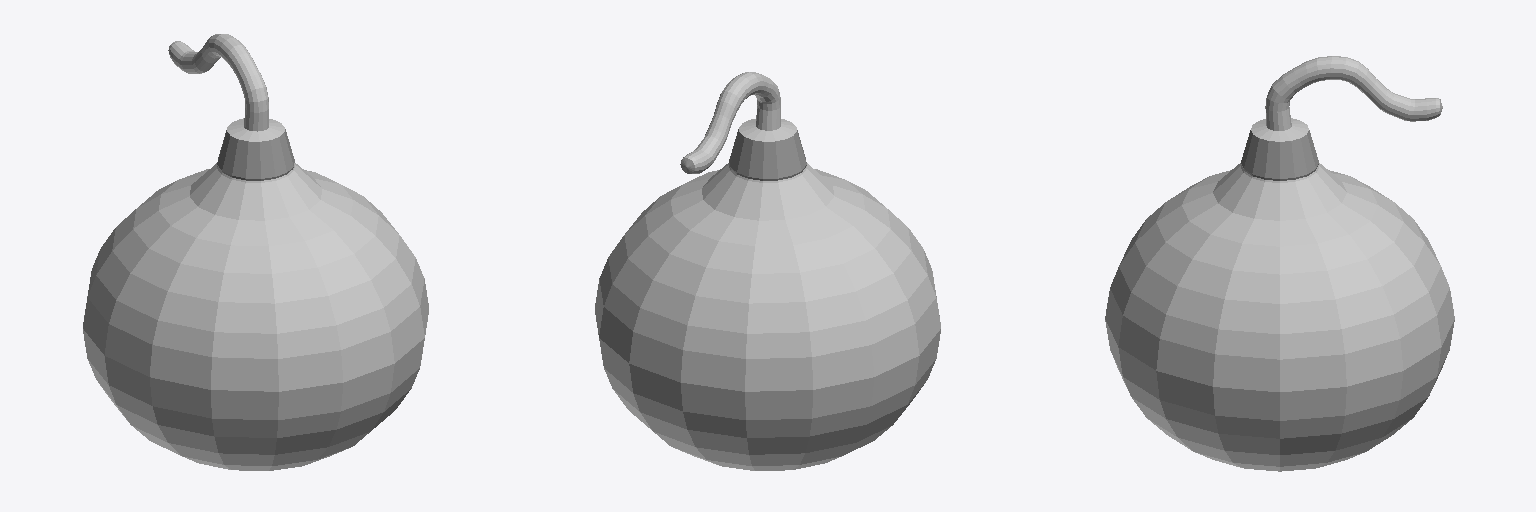
File: black-handbomb.obj
The picture shows the model from 3 angles: view 1: azimuth 30°, elevation 25°; view 2: azimuth 150°, elevation 25°; view 3: azimuth 270°, elevation 25°; orthographic projection.
Parts seen in each view (by area): view 1: UCX_Regular_Bomb_Sphere.000, Regular_Bomb_Sphere.002; view 2: UCX_Regular_Bomb_Sphere.000, Regular_Bomb_Sphere.002; view 3: UCX_Regular_Bomb_Sphere.000, Regular_Bomb_Sphere.002.
Boxes of the visible parts, x1=… form: UCX_Regular_Bomb_Sphere.000: x1=83, y1=34, x2=428, y2=470; Regular_Bomb_Sphere.002: x1=217, y1=129, x2=294, y2=180; UCX_Regular_Bomb_Sphere.000: x1=595, y1=72, x2=940, y2=470; Regular_Bomb_Sphere.002: x1=729, y1=129, x2=806, y2=180; UCX_Regular_Bomb_Sphere.000: x1=1105, y1=56, x2=1454, y2=471; Regular_Bomb_Sphere.002: x1=1241, y1=130, x2=1318, y2=180.
Bounding box in the file's own units: 10.01 × 12.55 × 10.01.